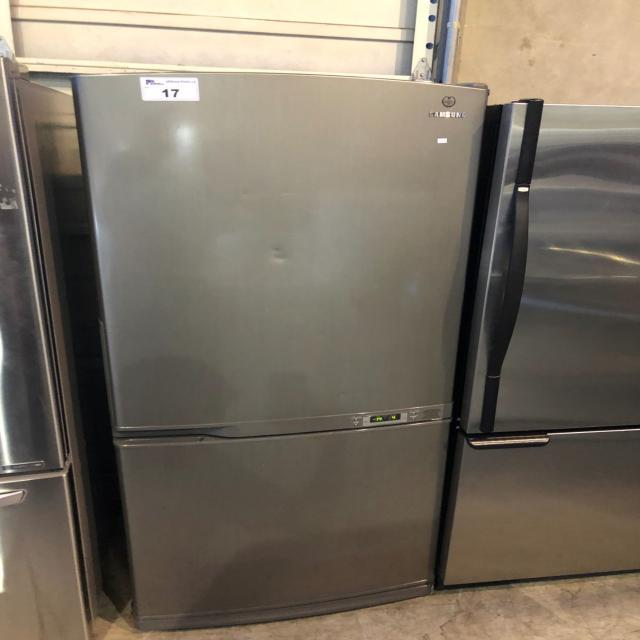dents: (259, 240, 312, 282)
